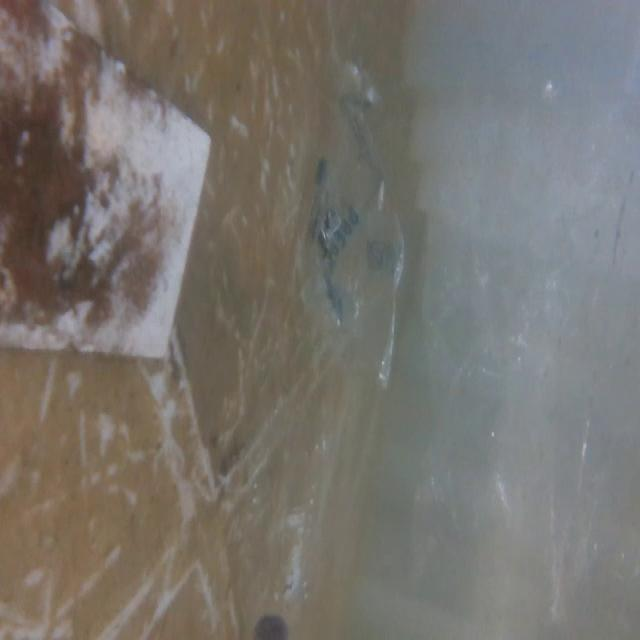plastic bags: (293, 56, 417, 389)
